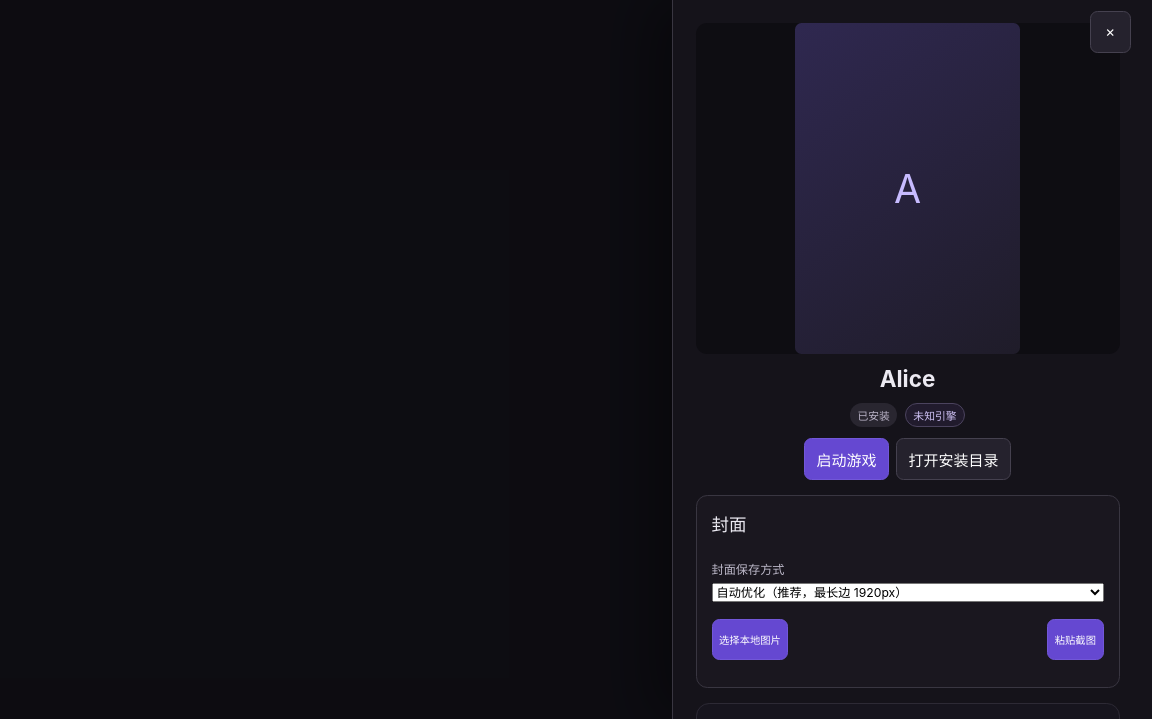
Test: GameDetailDrawer › shows shortcut failures near the overview actions
The image size is (1152, 719).
Click the button with test id "quick-launch" at (846, 459), box left=804, top=438, right=889, bottom=480
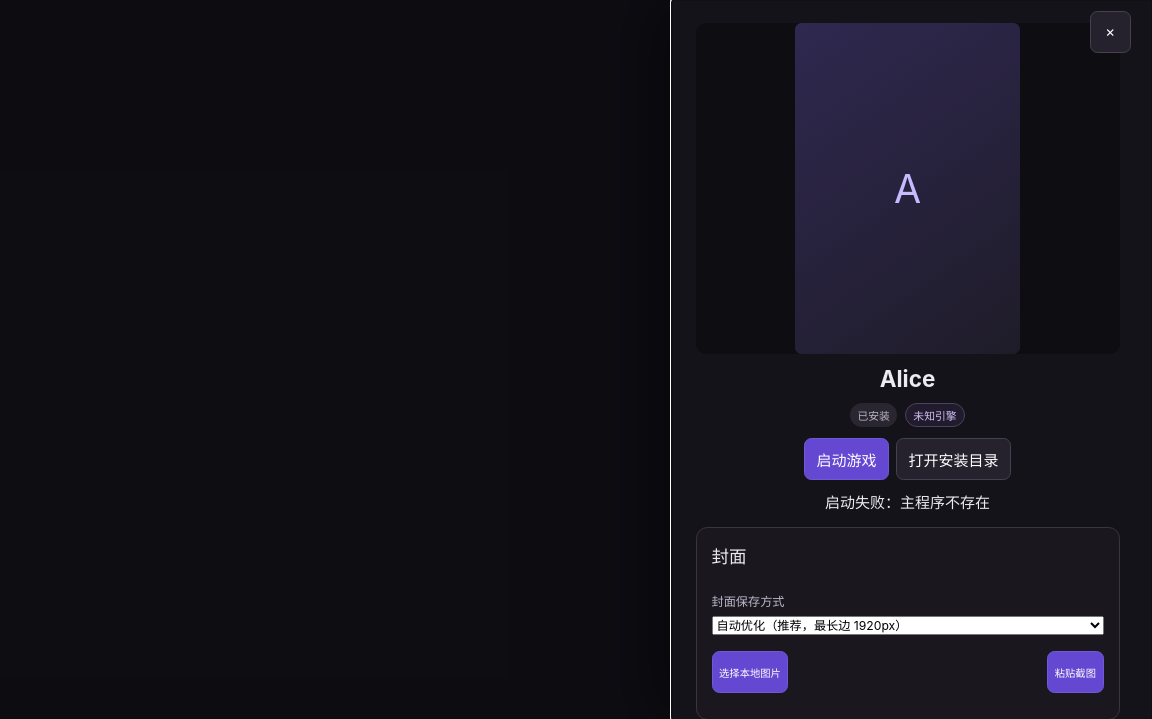
Check: the text with test id "quick-message" reads "启动失败：主程序不存在", box left=825, top=493, right=990, bottom=512
